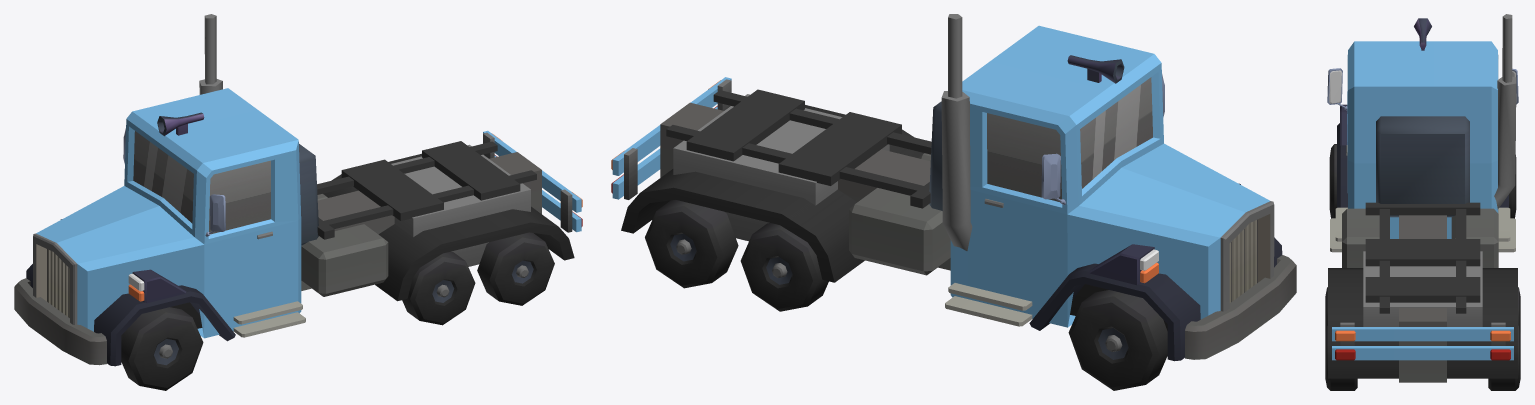
File: Truck_D.fbx
3 renders of one model, left to right at view 1: azimuth 30°, elevation 25°; view 2: azimuth 150°, elevation 25°; view 3: azimuth 270°, elevation 25°, orthographic. The views are drawn at different scales.
Visible parts, largest first — view 1: Truck_D, FL, RM, ML; view 2: Truck_D, FR, RL, MR; view 3: Truck_D, RL, RM, FL, FR.
Part boxes in pixels (<box>): Truck_D: <box>14,14,582,366</box>; FL: <box>121,307,203,390</box>; RM: <box>477,232,554,305</box>; ML: <box>402,251,475,325</box>; Truck_D: <box>611,14,1296,361</box>; FR: <box>1068,290,1167,390</box>; RL: <box>645,200,738,288</box>; MR: <box>740,223,828,311</box>; Truck_D: <box>1327,14,1518,382</box>; RL: <box>1488,325,1520,390</box>; RM: <box>1325,325,1357,390</box>; FL: <box>1329,144,1336,218</box>; FR: <box>1509,155,1516,218</box>.
Bounding box in the file's own units: 524 × 281 × 185.
